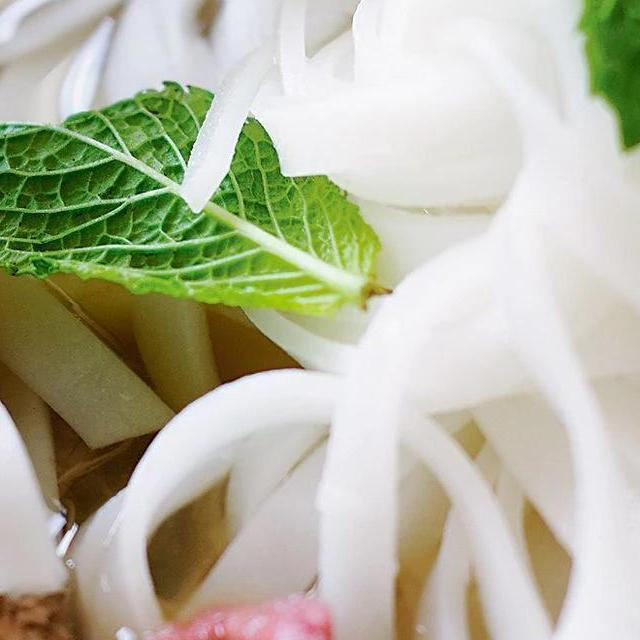banh pho: (28, 0, 640, 640)
pho bo: (0, 0, 640, 640)
